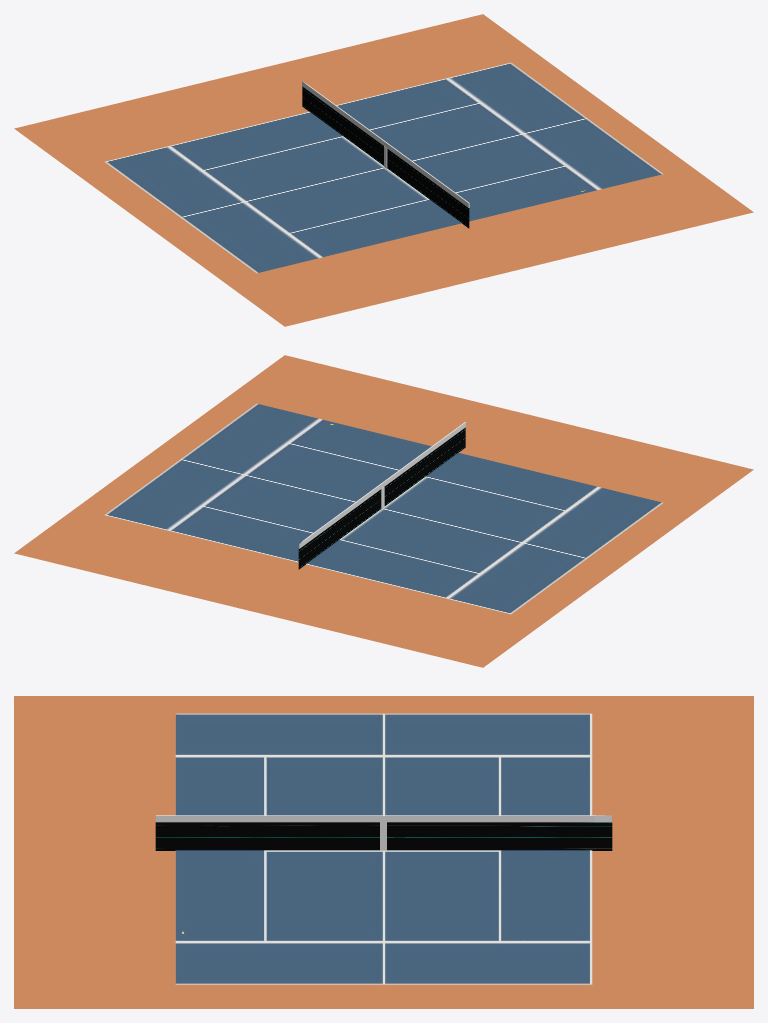
File: tenis_prototipo.fbx
The picture shows the model from 3 angles, top to bottom: view 1: azimuth 30°, elevation 25°; view 2: azimuth 150°, elevation 25°; view 3: azimuth 270°, elevation 25°; orthographic projection. The views are drawn at different scales.
Parts seen in each view (by area): view 1: orange, court, red, top red; view 2: orange, court, red, top red; view 3: orange, court, red, top red.
Boxes of the visible parts, <box> form: orange: <box>14,14,753,326</box>; court: <box>104,62,663,273</box>; red: <box>302,86,469,228</box>; top red: <box>302,81,469,207</box>; orange: <box>14,355,753,667</box>; court: <box>104,403,663,614</box>; red: <box>298,427,465,569</box>; top red: <box>299,422,465,548</box>; orange: <box>14,696,753,1008</box>; court: <box>175,713,592,984</box>; red: <box>155,822,612,850</box>; top red: <box>156,815,611,822</box>.
Bounding box in the file's own units: 1414 × 80.42 × 1414.
